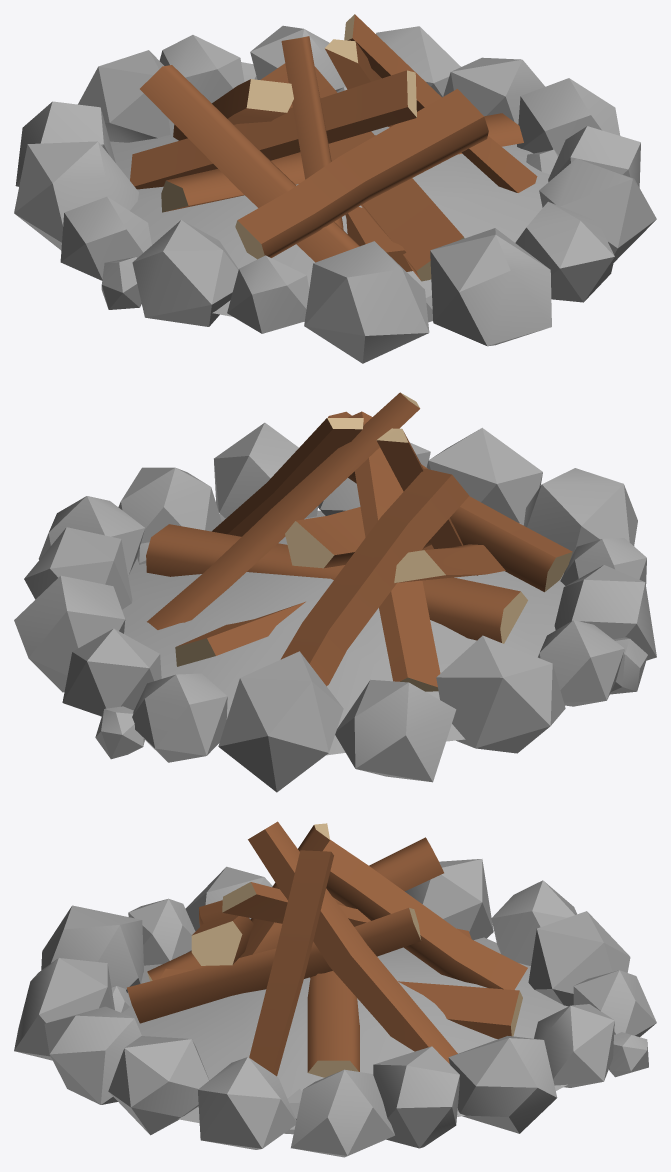
The model's file is campfire.fbx.
3 renders of one model, top to bottom at view 1: azimuth 30°, elevation 25°; view 2: azimuth 150°, elevation 25°; view 3: azimuth 270°, elevation 25°, orthographic. The views are drawn at different scales.
Visible parts, largest first — view 1: campfire_01; view 2: campfire_01; view 3: campfire_01.
Part boxes in pixels (x1,y1,x2,y2): campfire_01: (14,14,656,363); campfire_01: (14,392,656,792); campfire_01: (14,821,656,1157).
Bounding box in the file's own units: 180 × 73.3 × 194.
